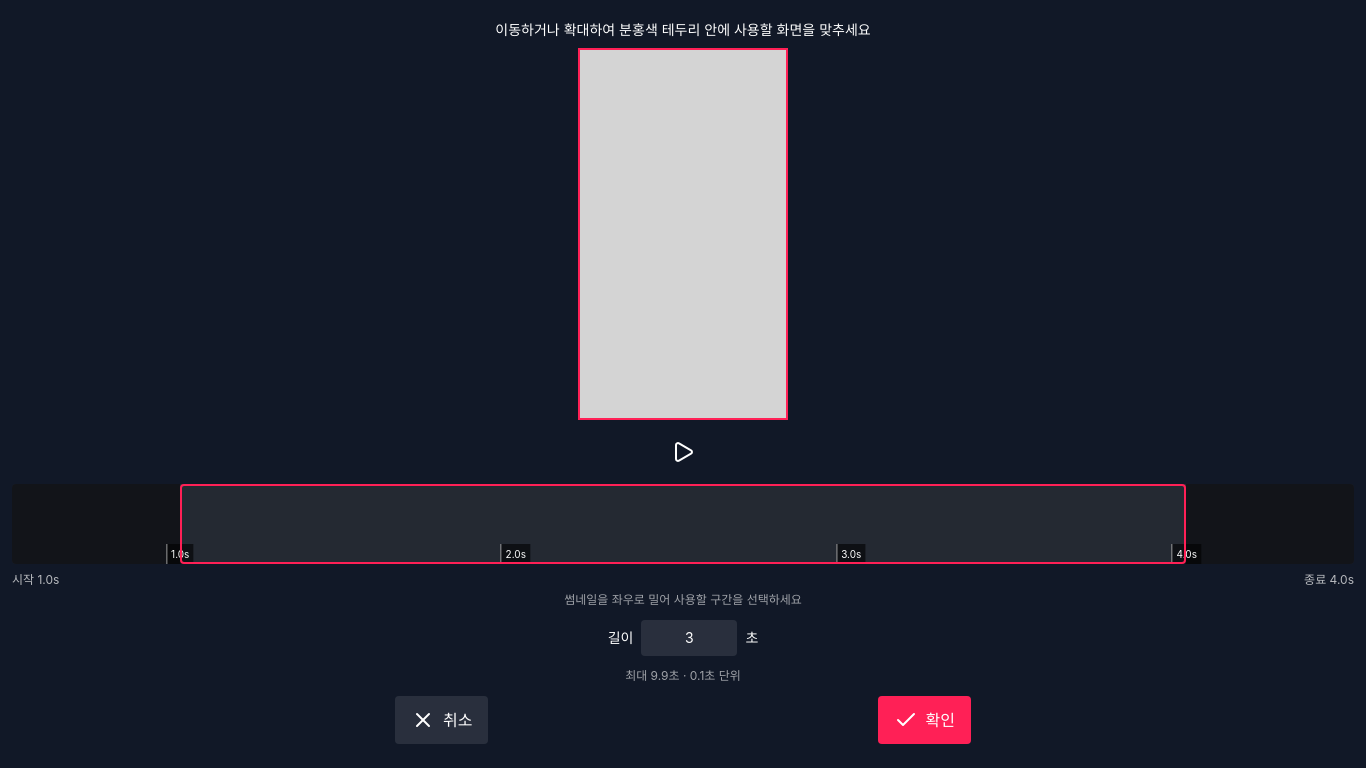
displays and enforces a short video duration rounded down to a tenth
Expected: the text "최대 9.9초 · 0.1초 단위" is shown, [625,668,741,683]
Replace the text in the field named "길이(초)" with "10": coordinates (689, 638) [641,620,737,656]
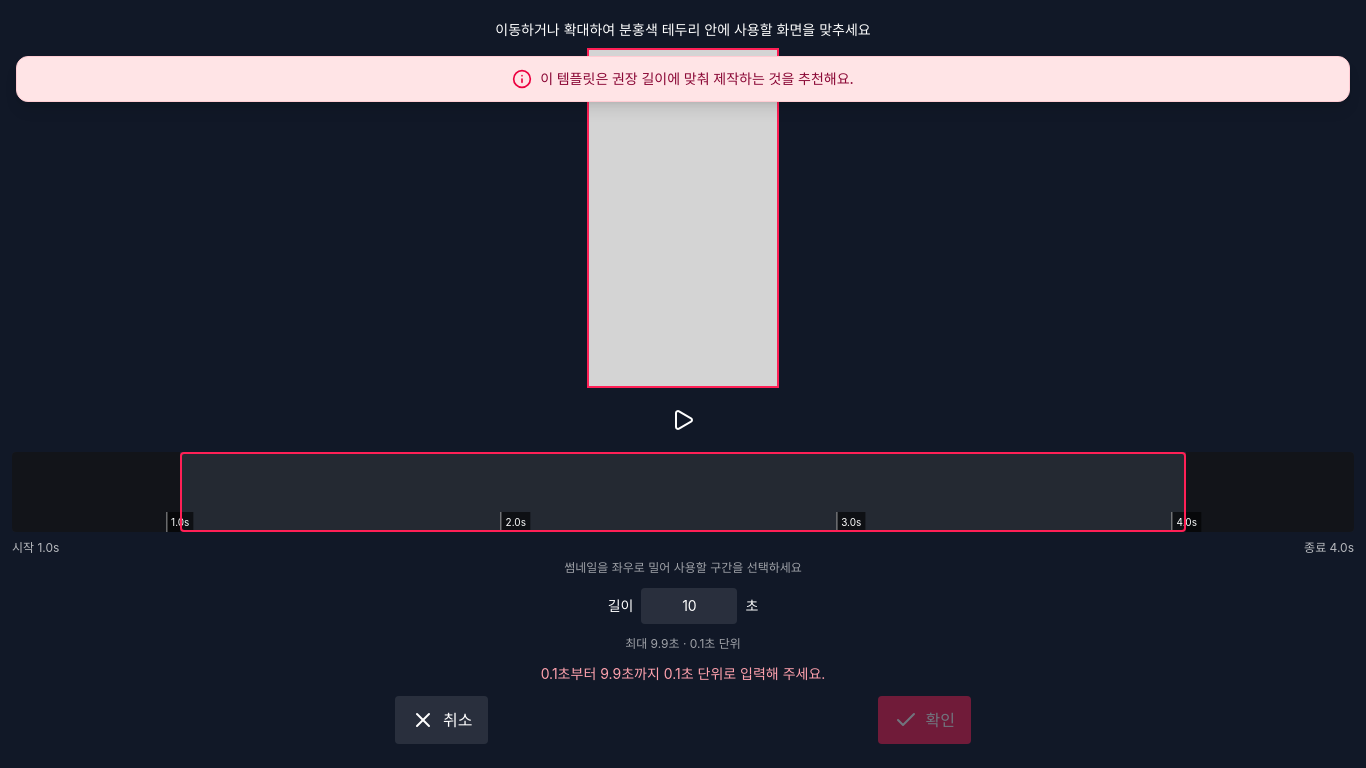
Expected: the button "확인" is disabled, [878,696,971,744]
Expected: the message "0.1초부터 9.9초까지 0.1초 단위로 입력해 주세요." is shown, [541,665,825,682]
Replace the text in the field named "길이(초)" with "9.9": coordinates (689, 606) [641,588,737,624]
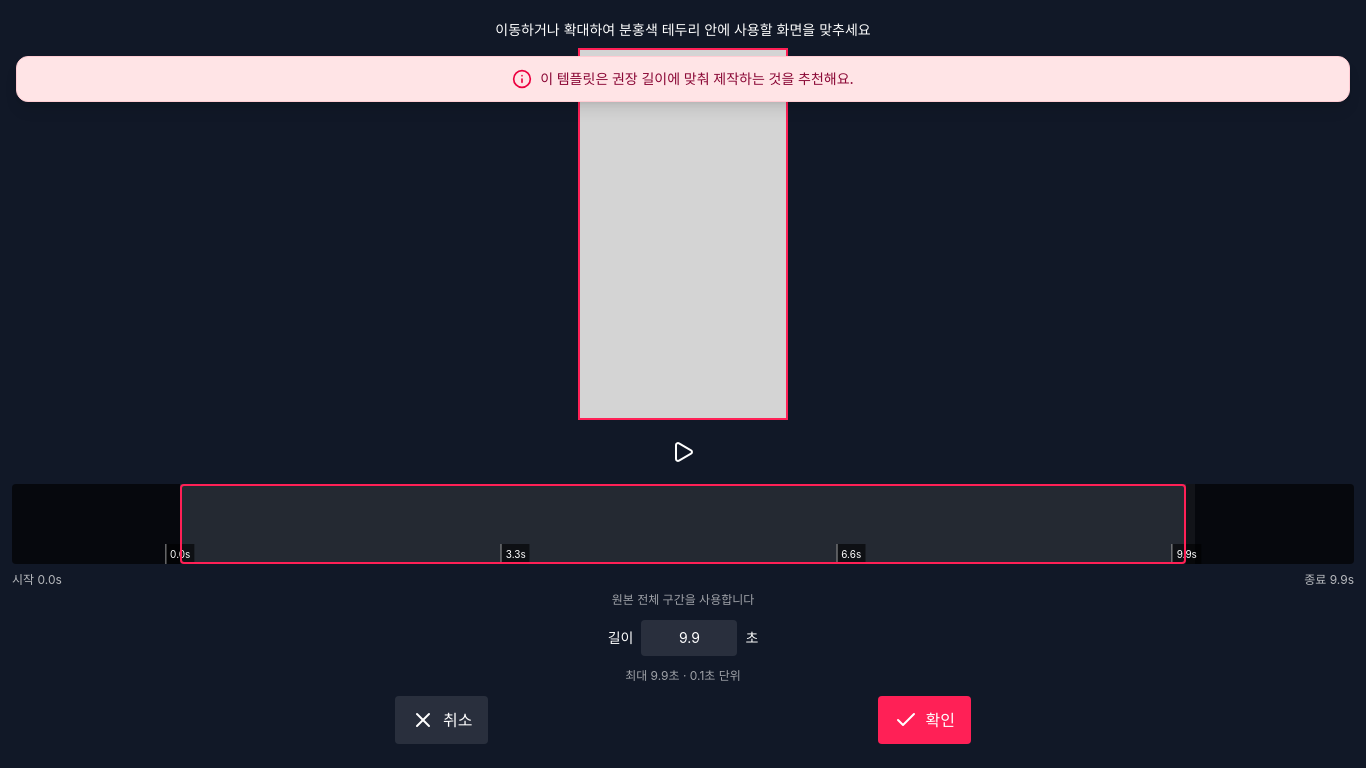
Expected: the button "확인" is enabled, [878,696,971,744]
